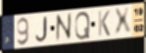9: (16, 16, 30, 47)
J: (35, 16, 49, 44)
K: (97, 9, 111, 37)
N: (54, 11, 73, 44)
Q: (74, 11, 91, 41)
X: (113, 6, 133, 38)
